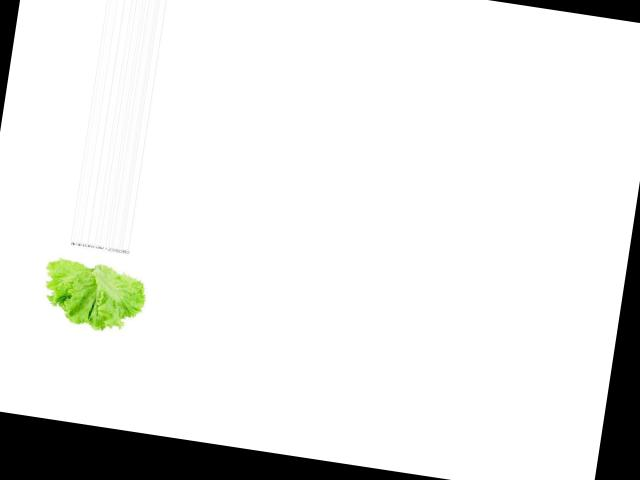lettuce: (37, 243, 153, 337)
